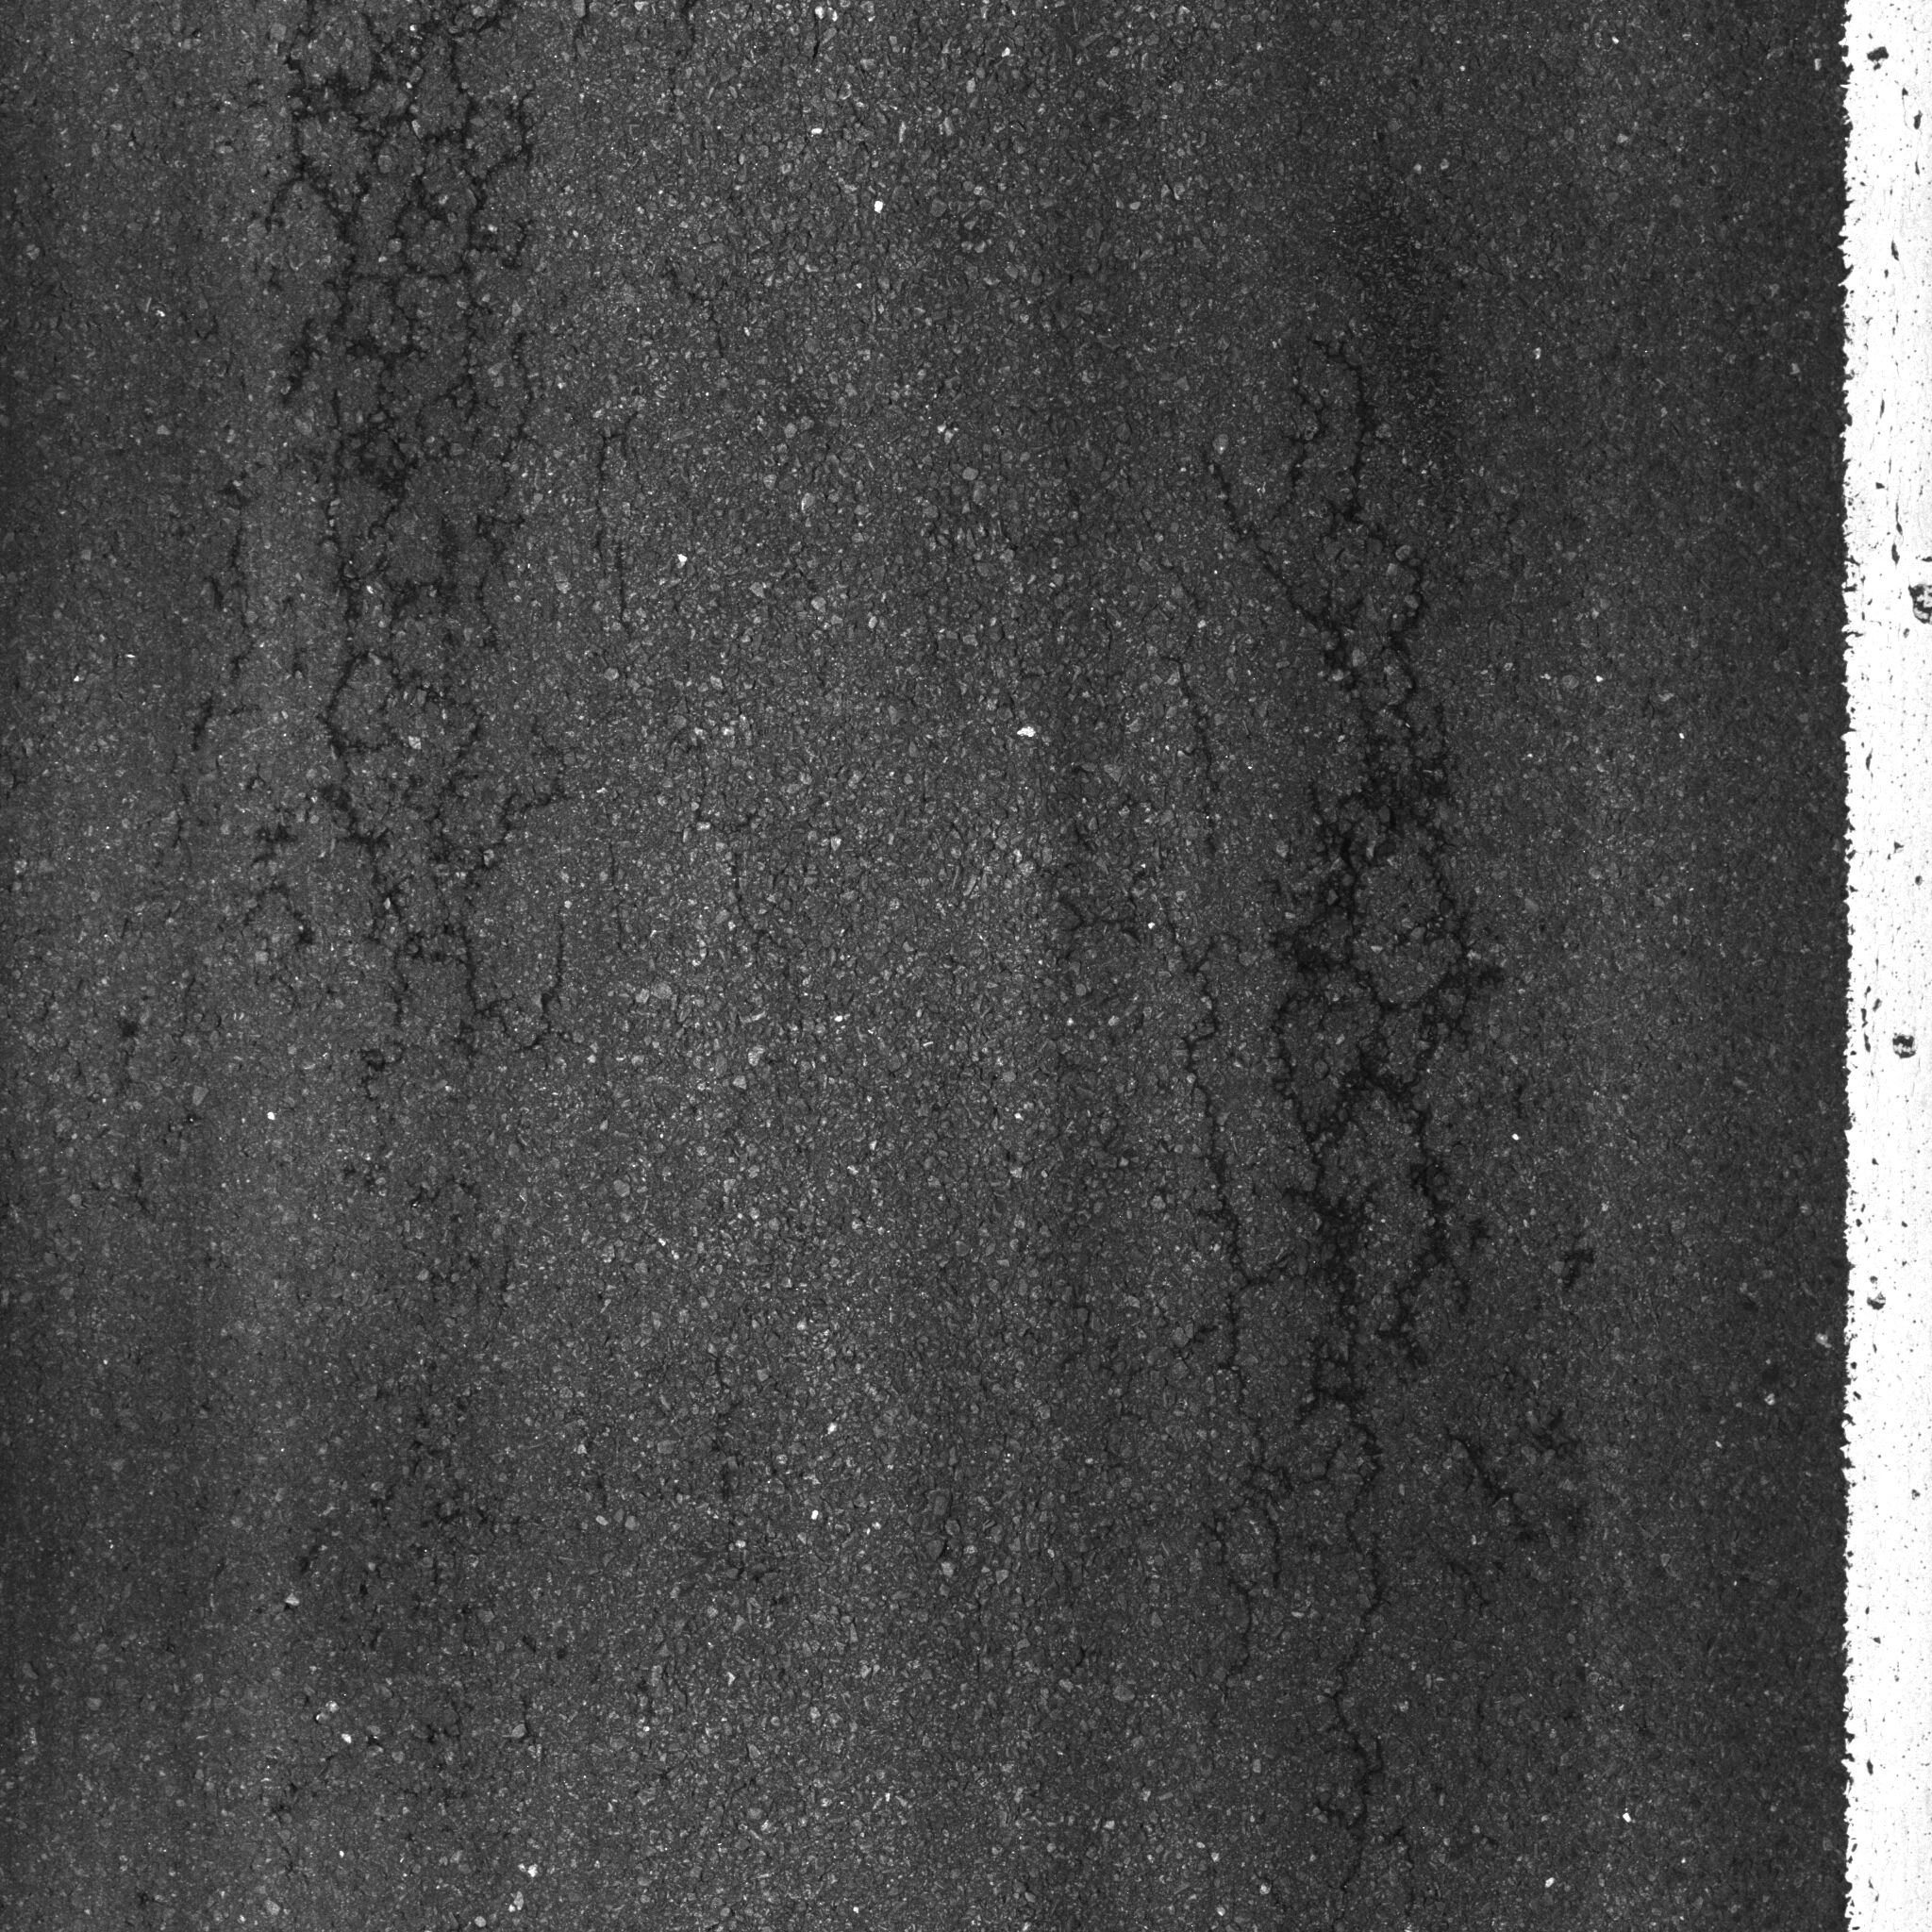alligator: (1067, 326, 1612, 1882), (113, 9, 828, 1097)
